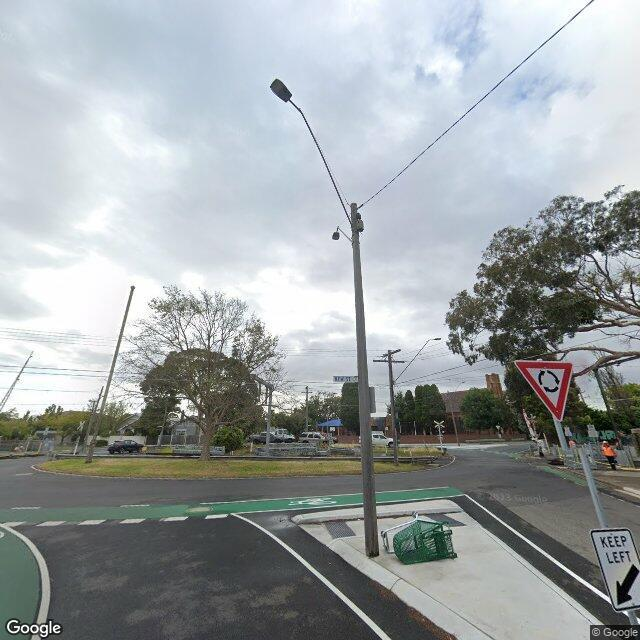crossarm: (382, 349, 402, 358), (373, 359, 406, 364), (301, 391, 312, 394)
streetlight: (271, 78, 352, 230), (392, 338, 442, 386)
timber-pole: (351, 203, 380, 558), (84, 285, 136, 463), (388, 350, 399, 465), (306, 387, 308, 432)
